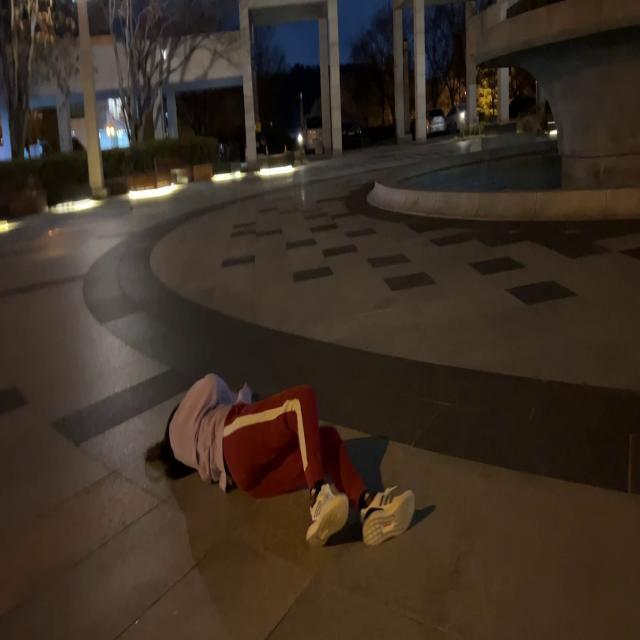Fall: (146, 375, 416, 547)
